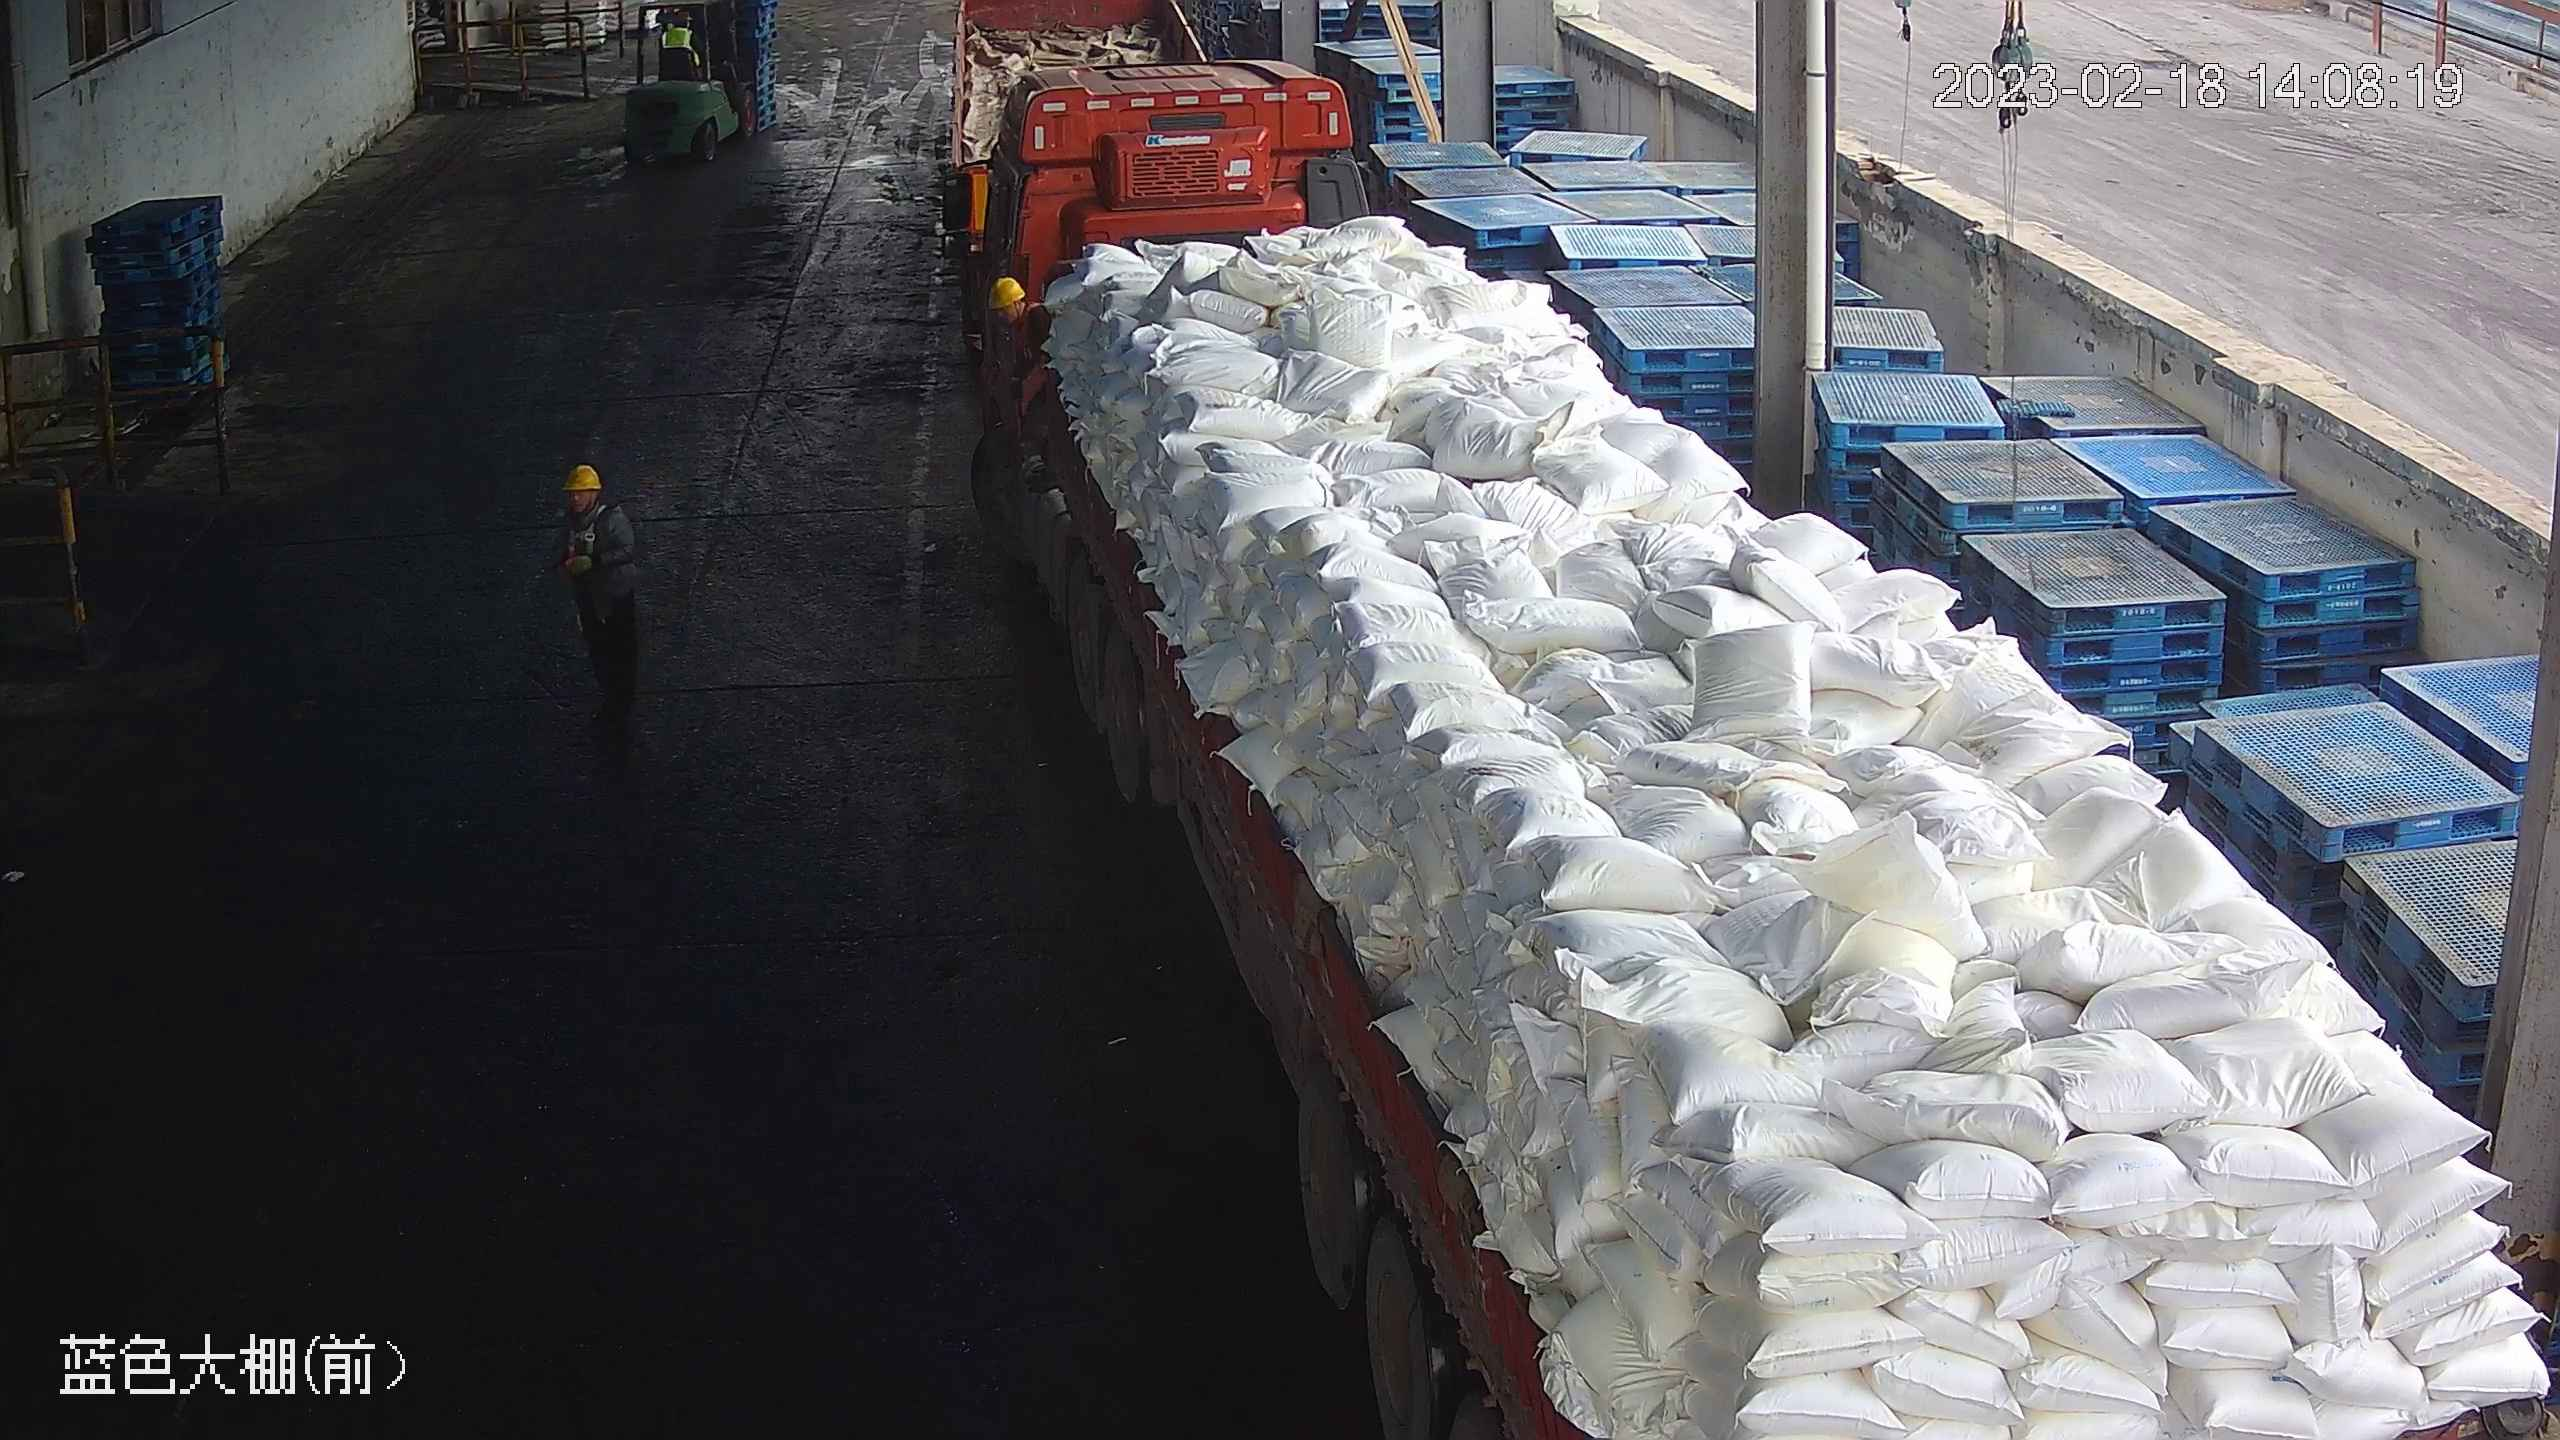head: (557, 466, 630, 549), (988, 277, 1055, 350)
helmet: (989, 278, 1026, 308), (560, 466, 602, 492)
people: (547, 457, 646, 721)
truck: (937, 54, 2560, 1440)
